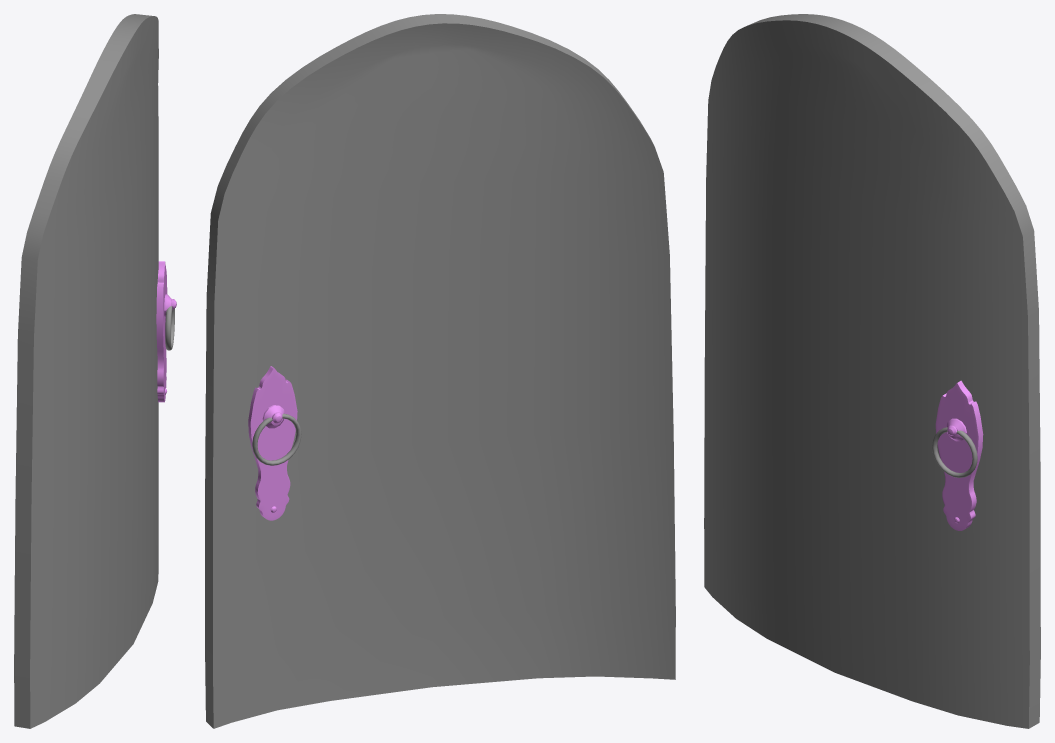
File: SM_RoundDoor_A_001.FBX
3 views of the same model, side by side, from view 1: azimuth 30°, elevation 25°; view 2: azimuth 150°, elevation 25°; view 3: azimuth 270°, elevation 25° (orthographic). The views are drawn at different scales.
Visible parts, largest first — view 1: SM_RoundDoor_A_001; view 2: SM_RoundDoor_A_001; view 3: SM_RoundDoor_A_001.
Boxes of the visible parts, left/top/right/bottom form: SM_RoundDoor_A_001: left=14, top=14, right=176, bottom=728; SM_RoundDoor_A_001: left=205, top=14, right=675, bottom=728; SM_RoundDoor_A_001: left=704, top=14, right=1040, bottom=728.
Size of the model in its own units: 131 by 267 by 127.
